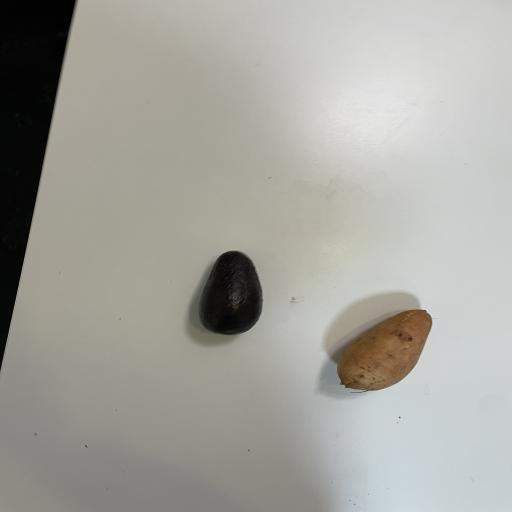avocado: (186, 234, 276, 344)
sweet_potato: (308, 301, 451, 401)
